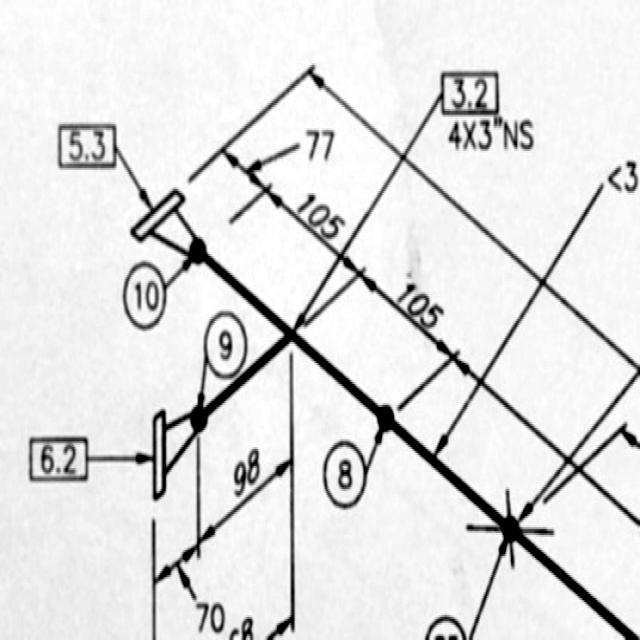Item number: (54, 118, 120, 175), (28, 431, 90, 487), (438, 66, 502, 119)
Measrement: (301, 45, 638, 380), (195, 421, 294, 555), (173, 573, 295, 638), (226, 121, 341, 189), (445, 111, 537, 157)
Pipeline: (196, 250, 528, 526)
Symbol: (142, 396, 208, 512), (128, 181, 200, 272)
Weld number: (120, 257, 170, 336), (321, 439, 370, 513), (203, 308, 249, 381), (422, 611, 473, 638)
